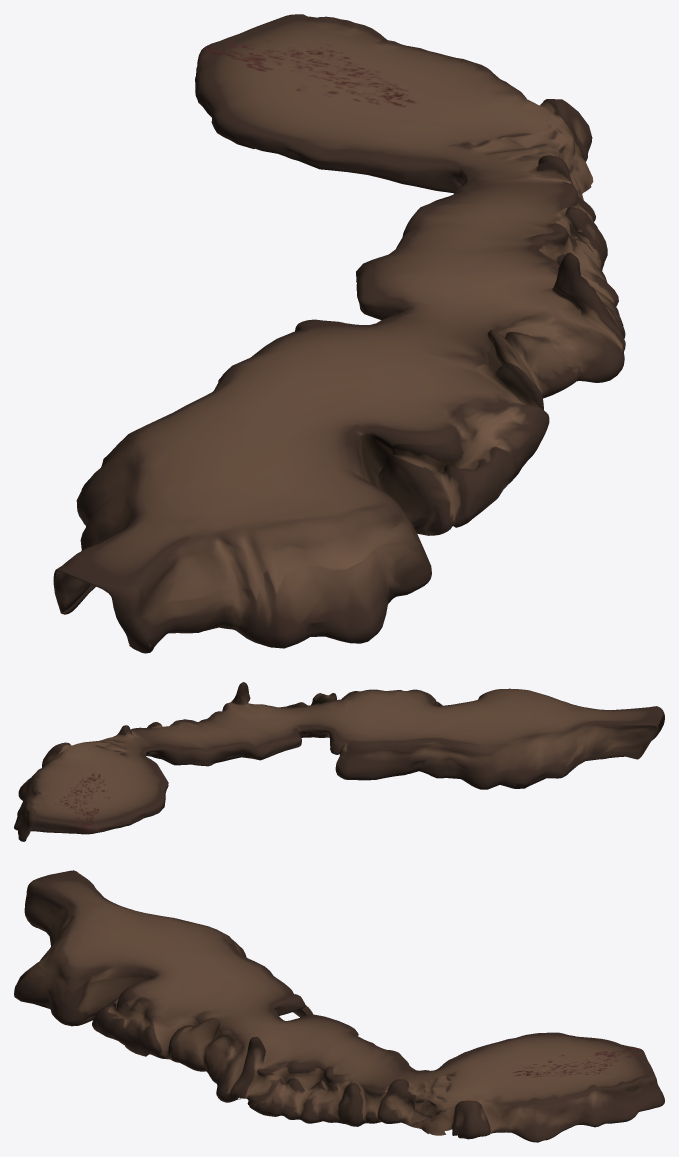
The model's file is TerrainLvl1.fbx.
3 renders of one model, top to bottom at view 1: azimuth 30°, elevation 25°; view 2: azimuth 150°, elevation 25°; view 3: azimuth 270°, elevation 25°, orthographic. The views are drawn at different scales.
Visible parts, largest first — view 1: terrain.001; view 2: terrain.001; view 3: terrain.001.
Part boxes in pixels (x1,y1,x2,y2): terrain.001: (53, 14, 625, 653); terrain.001: (14, 682, 664, 841); terrain.001: (14, 870, 664, 1142).
Bounding box in the file's own units: 26665 × 3940 × 29902.
